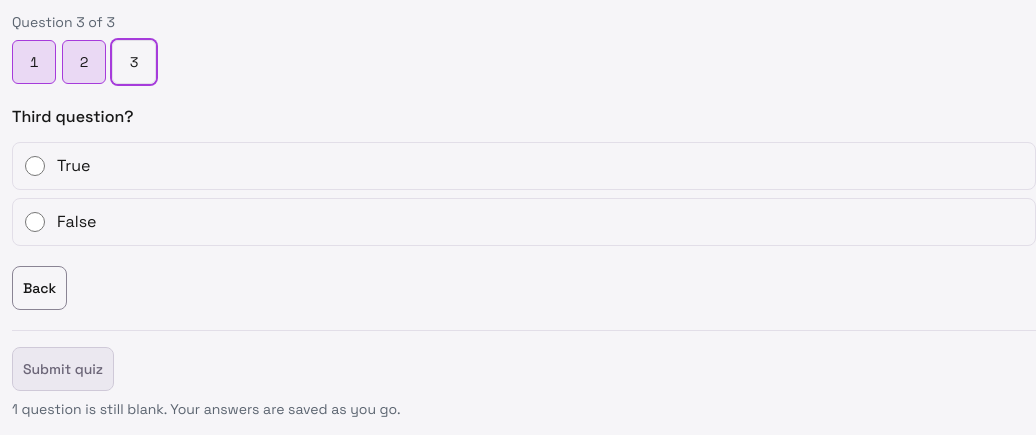
QuizStep › resumes: restores saved answers and lands on the first blank question
Check: the text "Third question?" is shown, box [12,106,134,127]
Check: the text "Question 3 of 3" is shown, box [12,12,115,32]
earlier answers are still there
Click the button named "Question 1, answered" at (34, 62), box [12,40,56,84]
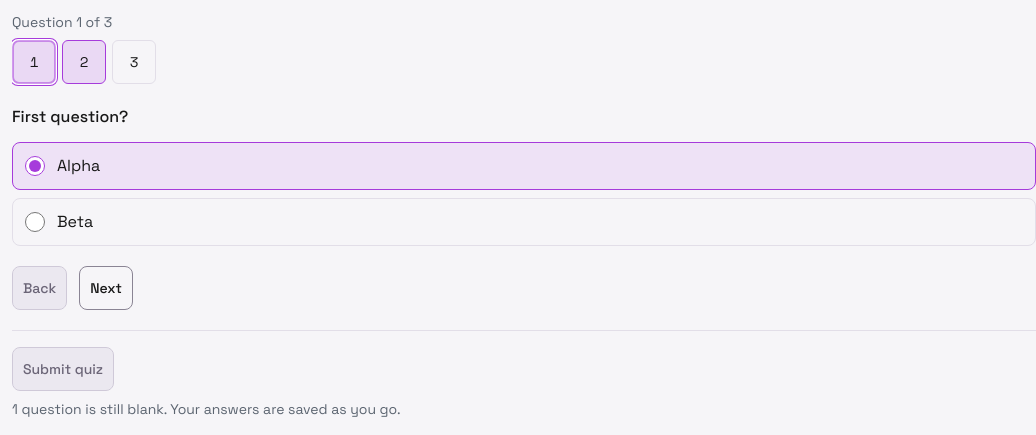
Check: the radio button labelled "Alpha" is checked, box [25,156,45,176]
